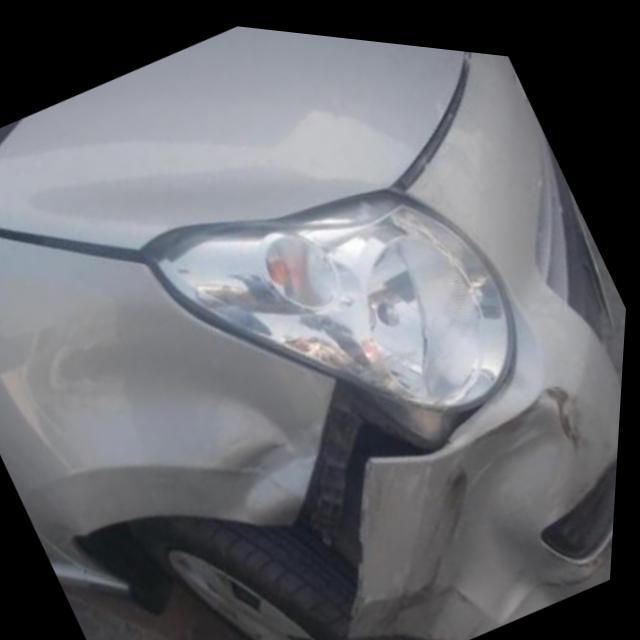dent: (362, 370, 598, 637)
dislocated part: (297, 373, 488, 631)
